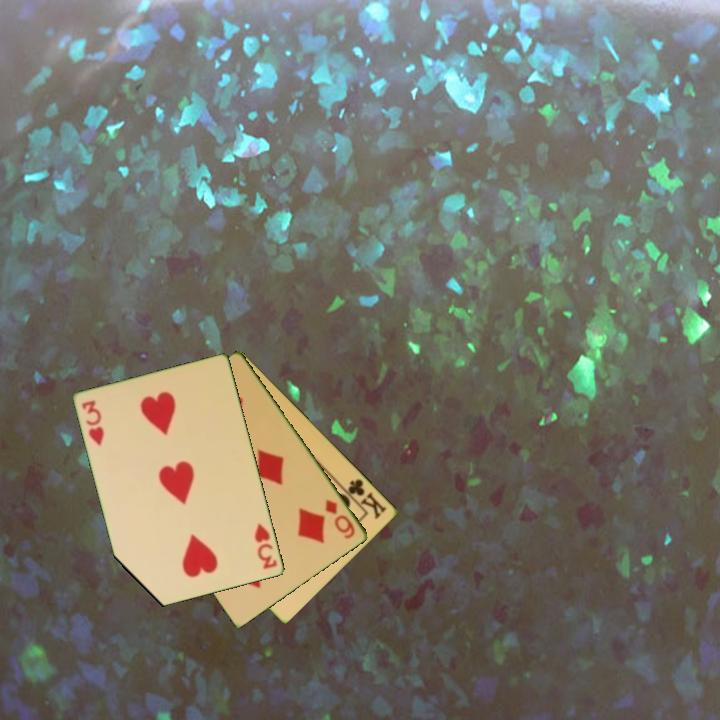3h: (251, 520, 281, 572), (79, 397, 108, 449)
6d: (322, 496, 358, 542)
Kc: (339, 475, 390, 522)
